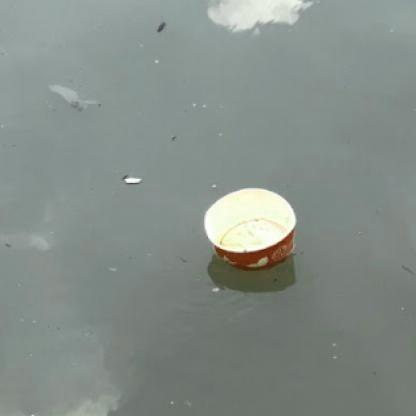Plastic: (201, 185, 300, 270)
